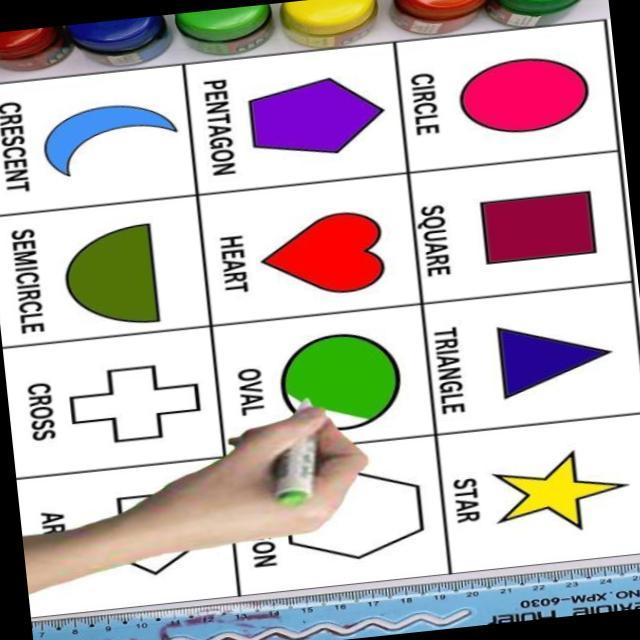circle: (446, 18, 613, 168)
cross: (48, 341, 218, 462)
square: (448, 178, 637, 292)
triangle: (473, 303, 635, 415)
